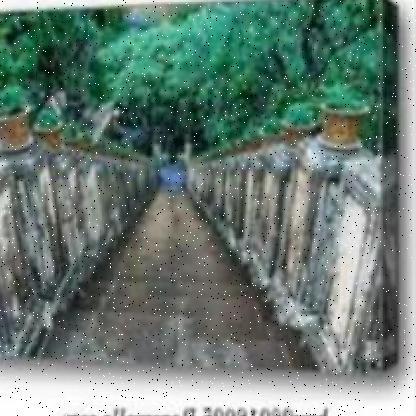stair_down: (53, 260, 271, 372)
